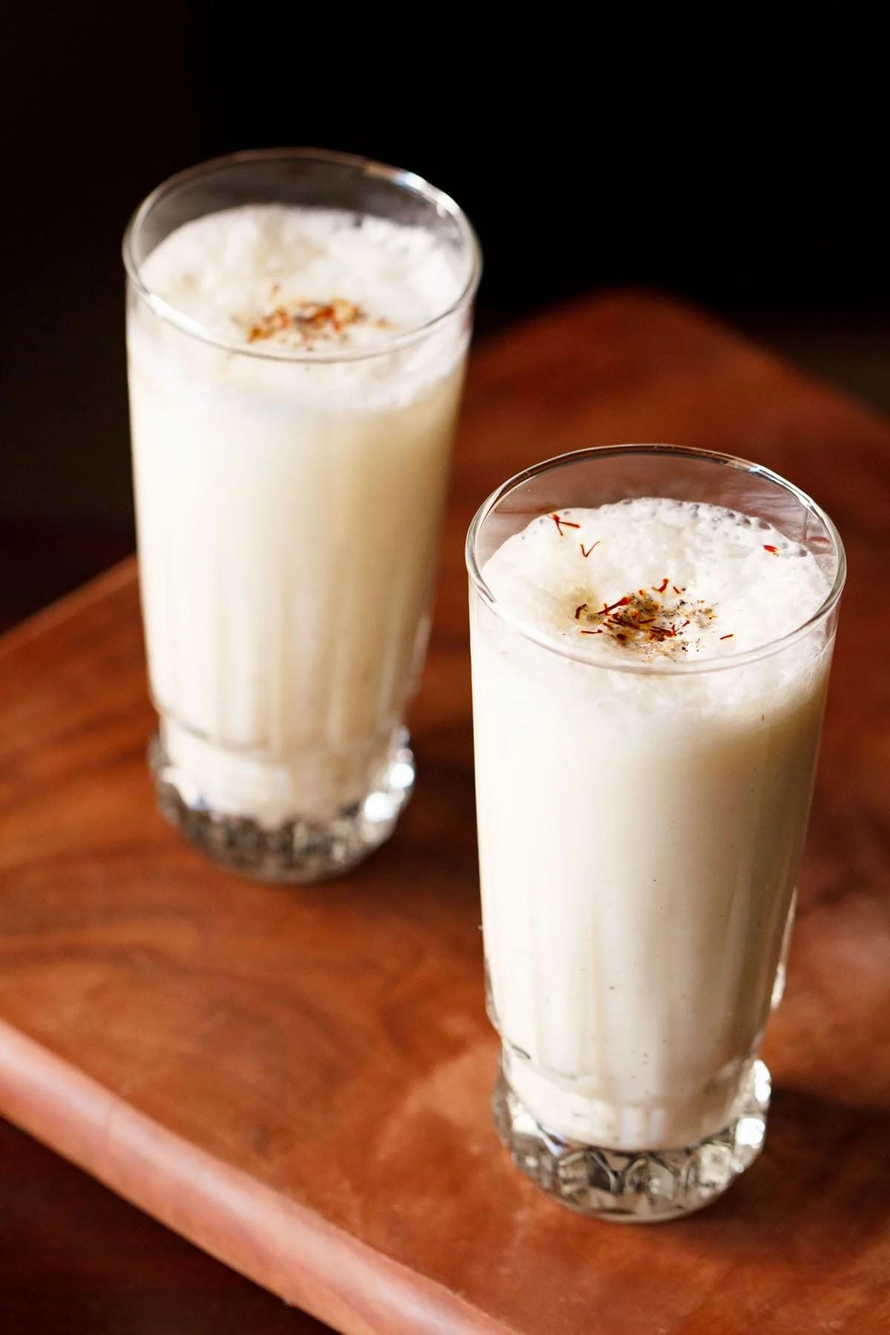Lassi: (473, 501, 835, 1149), (126, 206, 469, 826)
